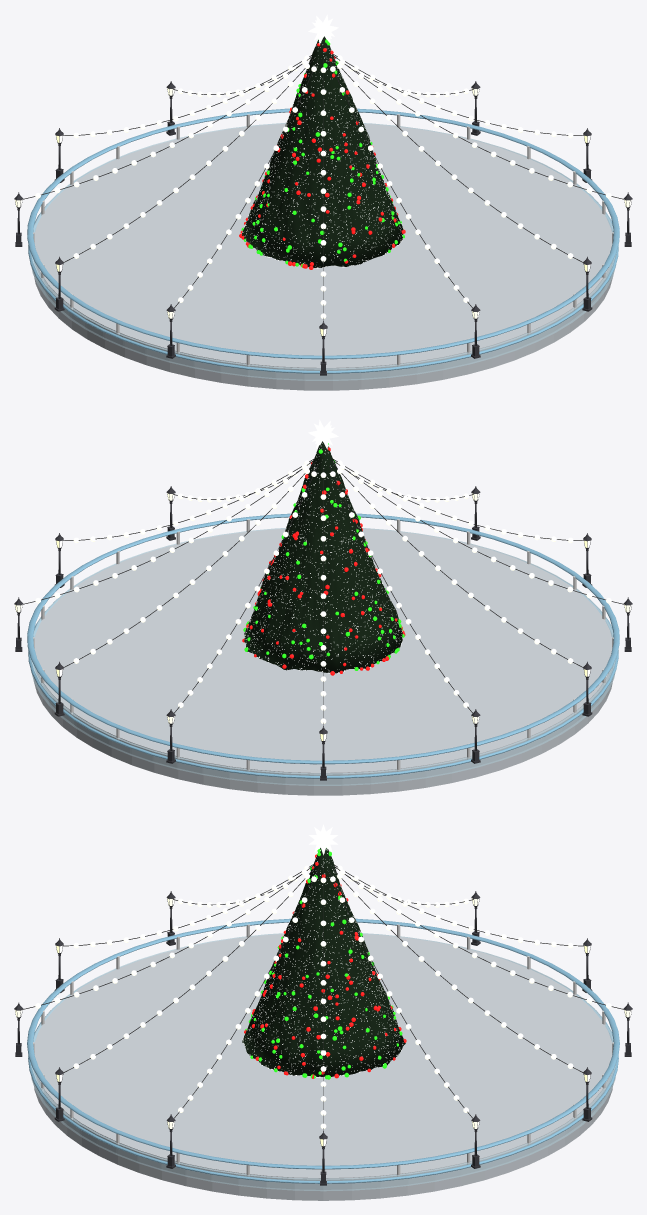
File: Starburst_Topper.glb
3 renders of one model, top to bottom at view 1: azimuth 30°, elevation 25°; view 2: azimuth 150°, elevation 25°; view 3: azimuth 270°, elevation 25°, orthographic.
Parts seen in each view (by area): view 1: Fence_Barrier_Wall, Christmas_Tree_Base, IceStage_Floor, Fence_Rail_Top, Fence_Rail_Bottom; view 2: Fence_Barrier_Wall, Christmas_Tree_Base, IceStage_Floor, Fence_Rail_Top, Fence_Rail_Bottom; view 3: Fence_Barrier_Wall, Christmas_Tree_Base, IceStage_Floor, Fence_Rail_Top, Fence_Rail_Bottom.
Boxes of the visible parts, <box> form: Fence_Barrier_Wall: <box>34,123,612,390</box>; Christmas_Tree_Base: <box>242,36,403,267</box>; IceStage_Floor: <box>30,122,616,380</box>; Fence_Rail_Top: <box>27,108,619,359</box>; Fence_Rail_Bottom: <box>28,166,618,373</box>; Fence_Barrier_Wall: <box>34,528,612,795</box>; Christmas_Tree_Base: <box>244,441,402,673</box>; IceStage_Floor: <box>30,528,616,785</box>; Fence_Rail_Top: <box>27,513,619,764</box>; Fence_Rail_Bottom: <box>28,571,618,778</box>; Fence_Barrier_Wall: <box>34,934,612,1200</box>; Christmas_Tree_Base: <box>242,848,405,1076</box>; IceStage_Floor: <box>31,933,615,1191</box>; Fence_Rail_Top: <box>27,918,619,1169</box>; Fence_Rail_Bottom: <box>28,980,618,1183</box>.
Bounding box in the file's own units: 38.6 × 19.94 × 38.6.
